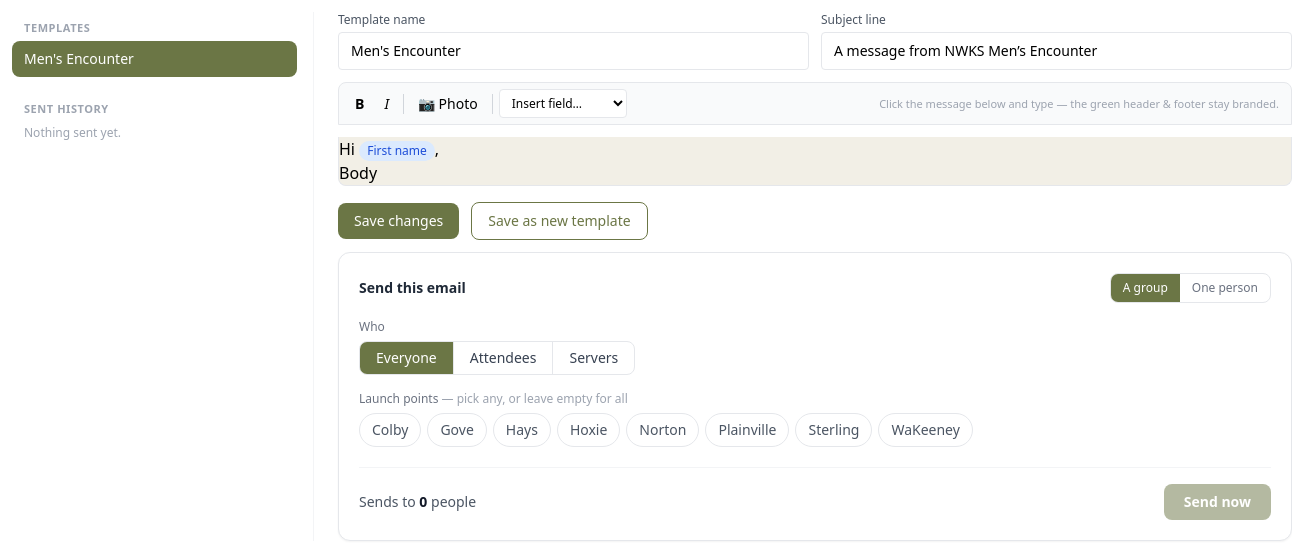
Scenario: TemplateEditor › saves the selected template via PATCH
Replace the text in the field named "subject line" with "Updated Subject" at {"x": 1056, "y": 51}, box [821,32,1292,70]
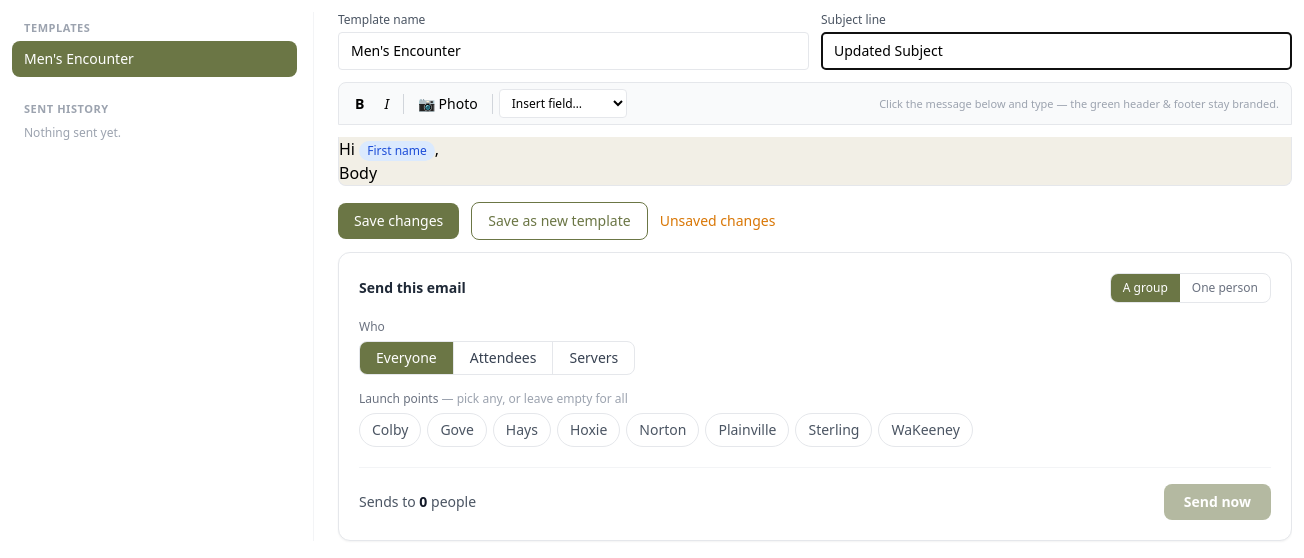
Click the button "Save changes" at {"x": 399, "y": 221}, box [338,203,459,239]
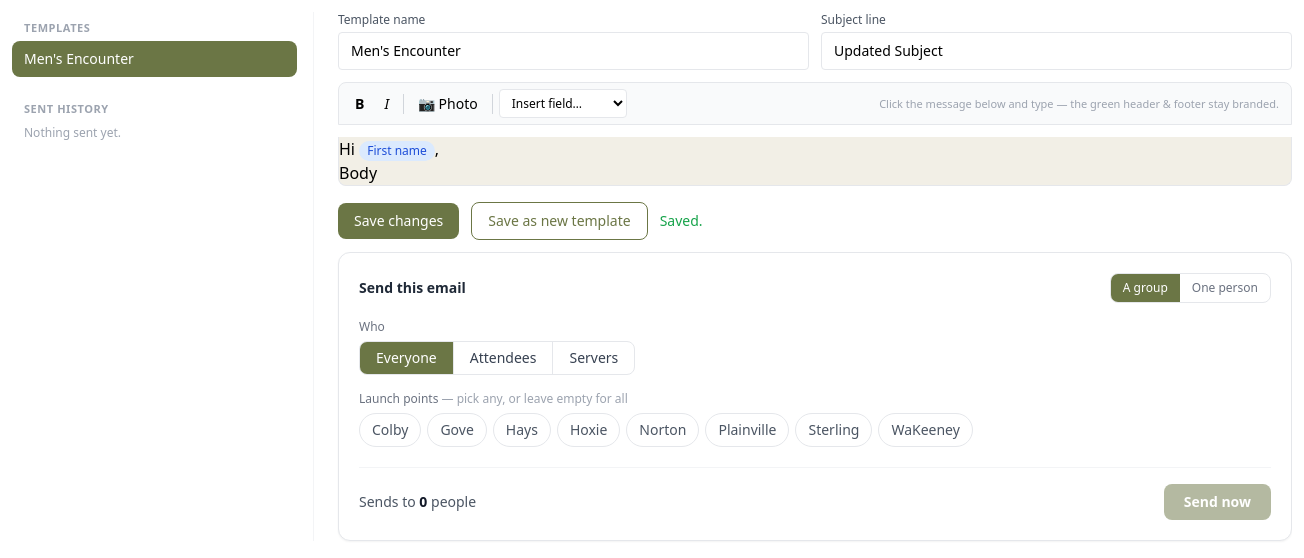
expect the text "Saved." is shown: met, box [660,211,703,231]
